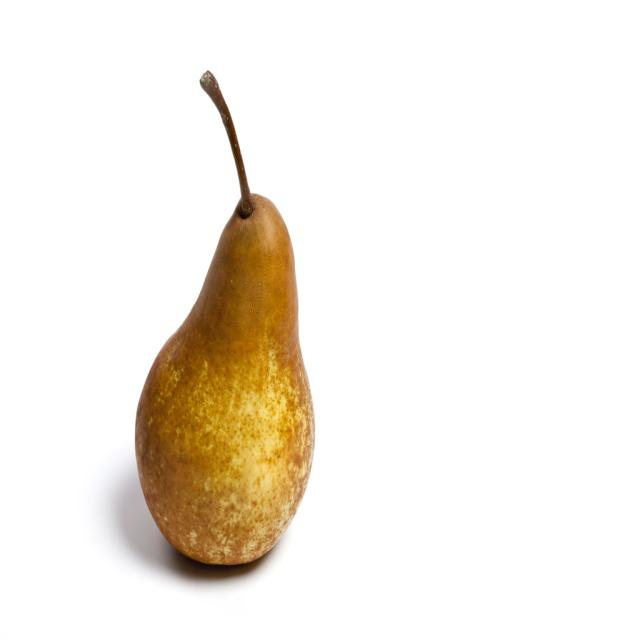pear: (133, 193, 315, 565)
